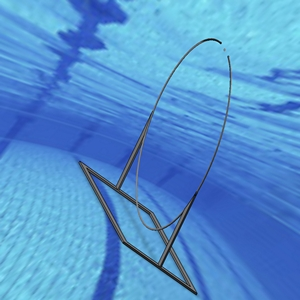circle: (77, 37, 232, 295)
